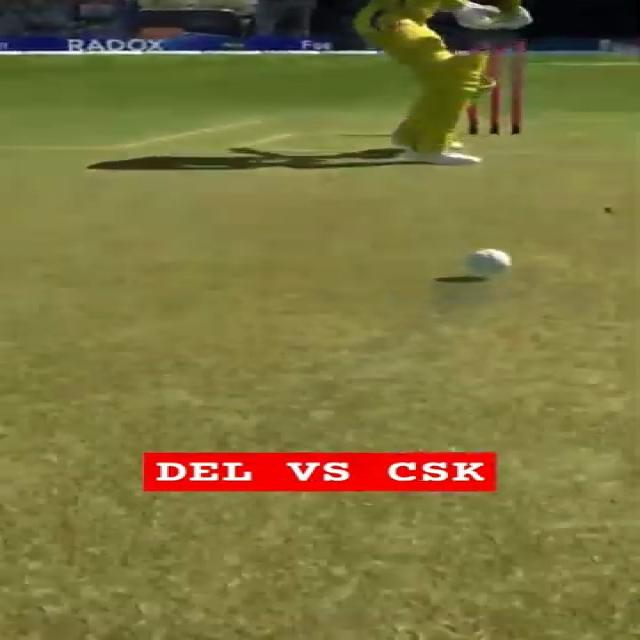ball: (466, 248, 512, 276)
